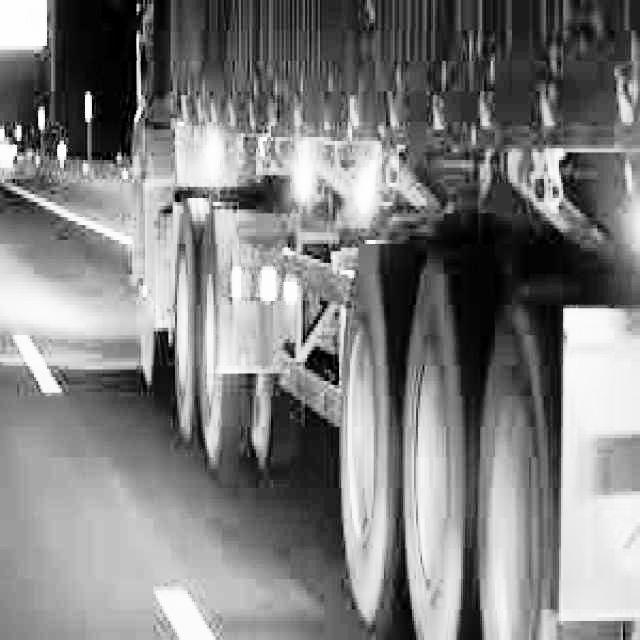Truck: (128, 0, 638, 636)
